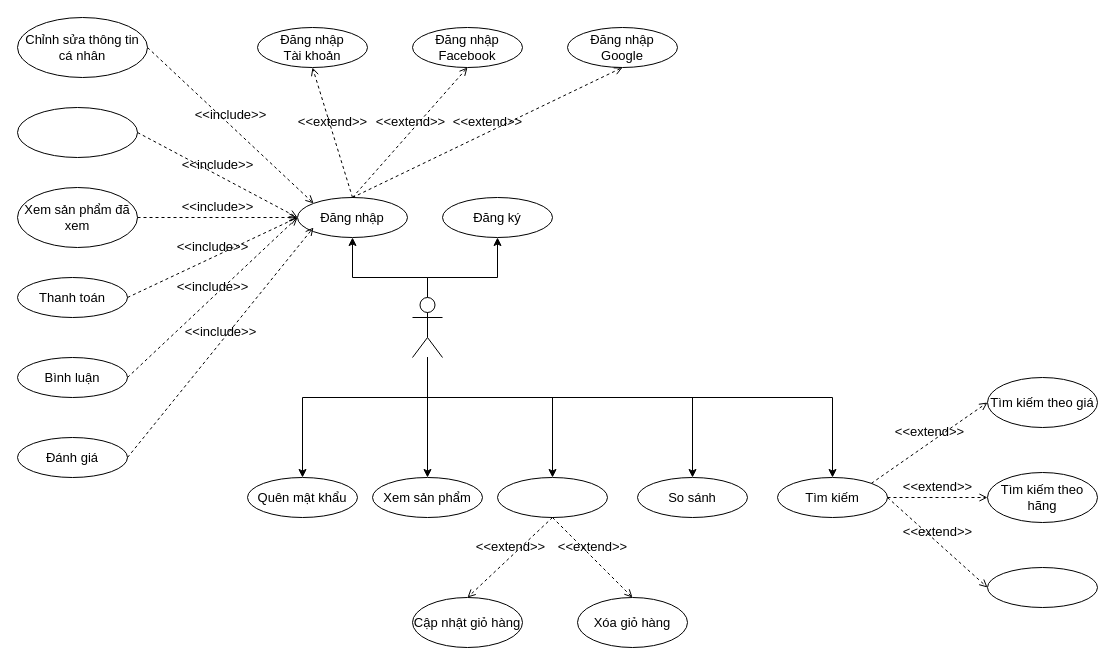
This 1115x665 diagram has some shape labels left out. The shapes that lost their labels are listed below. From the top down, each one's centre as x and y in pixels, then its label:
point (77, 132): Xem lịch sử mua hàng
point (427, 327): Người dùng
point (552, 497): Thêo vào giỏ hàng
point (1042, 587): Tìm kiếm theo tên
